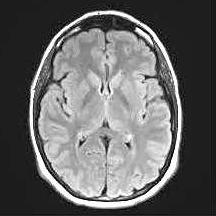Normal_Brain: (1, 1, 216, 216)
